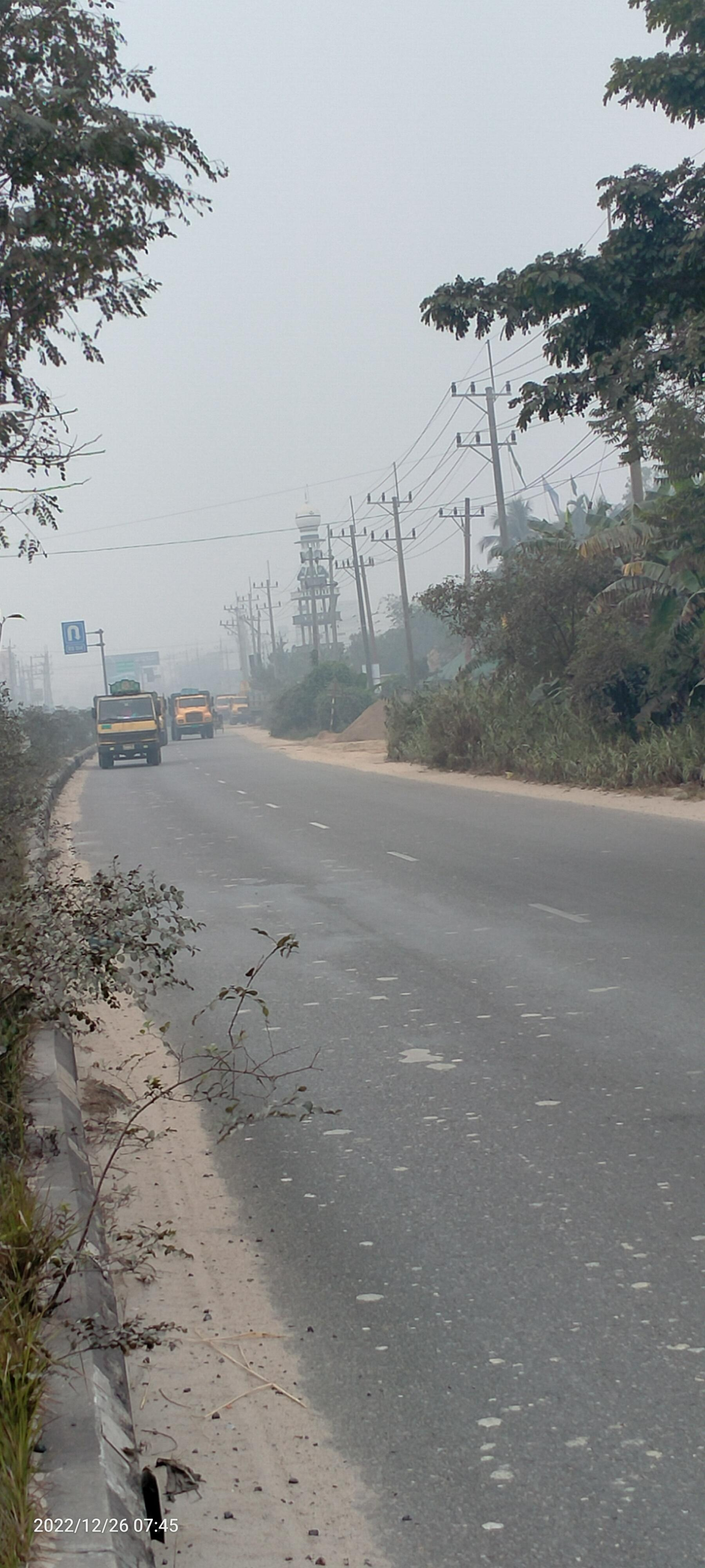Truck: (86, 677, 168, 775), (167, 685, 216, 745), (224, 690, 261, 731)
